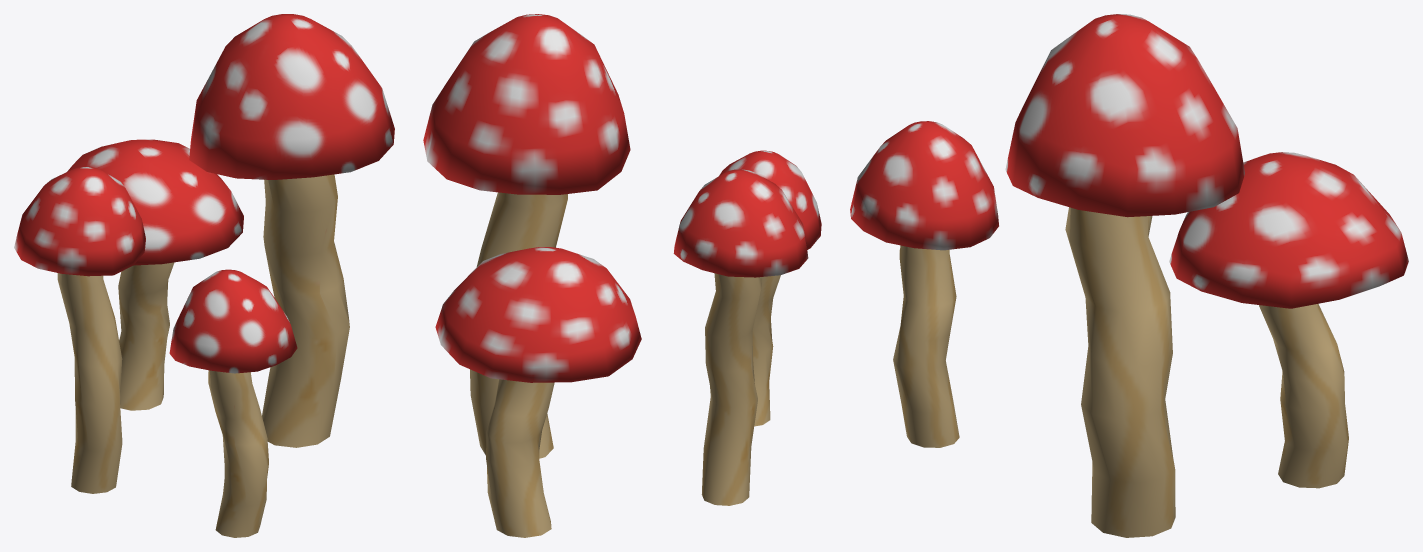
Rendered from AndreParreiras_853209.fbx_Cogumelos.fbx.
3 renders of one model, left to right at view 1: azimuth 30°, elevation 25°; view 2: azimuth 150°, elevation 25°; view 3: azimuth 270°, elevation 25°, orthographic. The views are drawn at different scales.
Parts seen in each view (by area): view 1: CogumeloAlto, CogumeloFino, CogumeloAchatado, CogumeloPequeno; view 2: CogumeloAlto, CogumeloAchatado, CogumeloFino, CogumeloPequeno; view 3: CogumeloAlto, CogumeloAchatado, CogumeloPequeno.
Part boxes in pixels (x1,y1,x2,y2): CogumeloAlto: (189,14,394,447); CogumeloFino: (14,167,145,493); CogumeloAchatado: (67,139,243,410); CogumeloPequeno: (169,269,297,537); CogumeloAlto: (423,14,630,458); CogumeloAchatado: (435,247,641,537); CogumeloFino: (673,169,808,505); CogumeloPequeno: (719,150,821,426); CogumeloAlto: (1005,14,1244,537); CogumeloAchatado: (1169,152,1408,488); CogumeloPequeno: (850,121,998,447).
Size of the model in its own units: 51.44 by 58.21 by 59.19.
